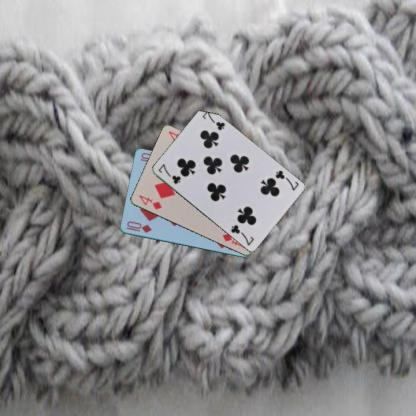10d: (123, 218, 153, 235)
4d: (136, 192, 163, 211)
7c: (155, 161, 182, 186), (273, 167, 300, 192)
